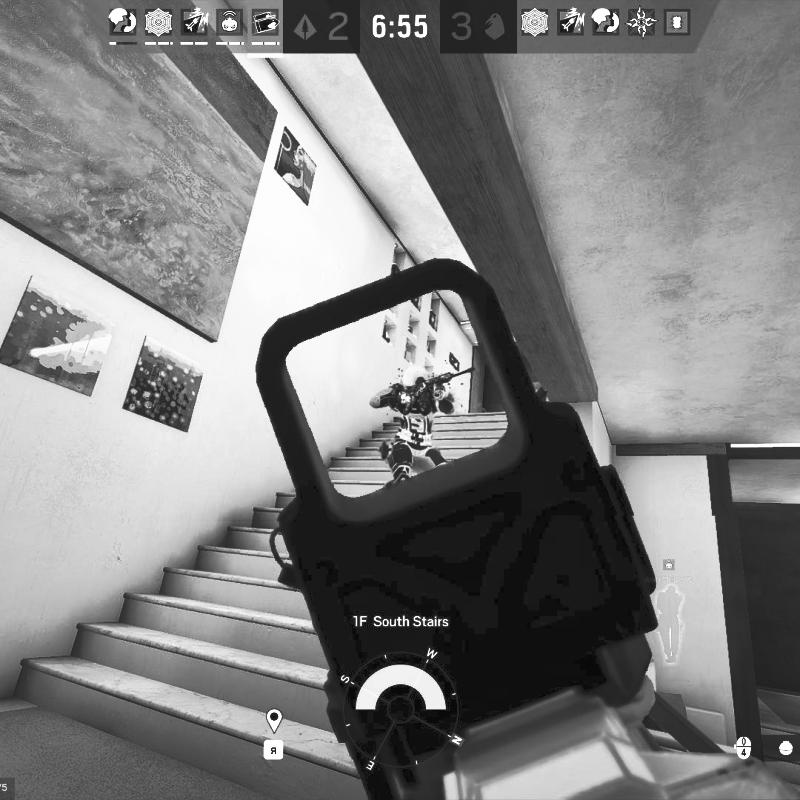Character: (370, 362, 458, 491)
Friend_label: (646, 556, 691, 584)
Head: (401, 364, 429, 390)
